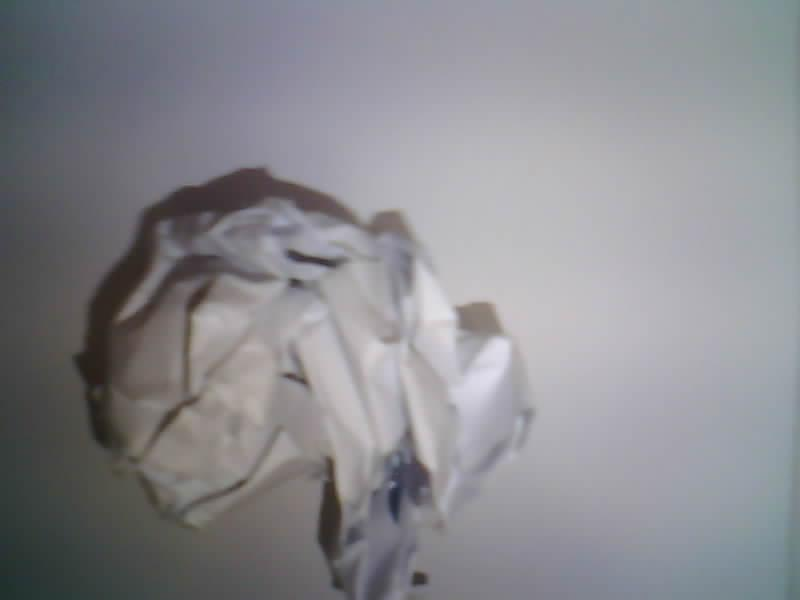biodegradable: (77, 170, 531, 599)
